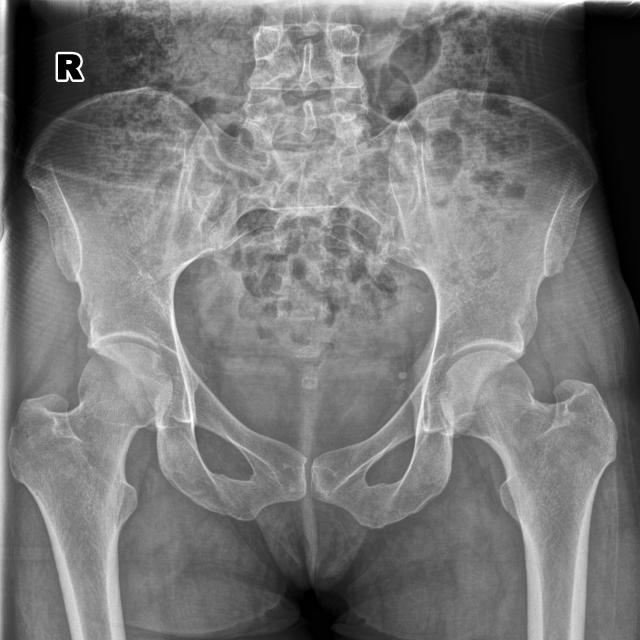normal-left: (440, 350, 618, 640)
normal-right: (7, 343, 174, 640)
